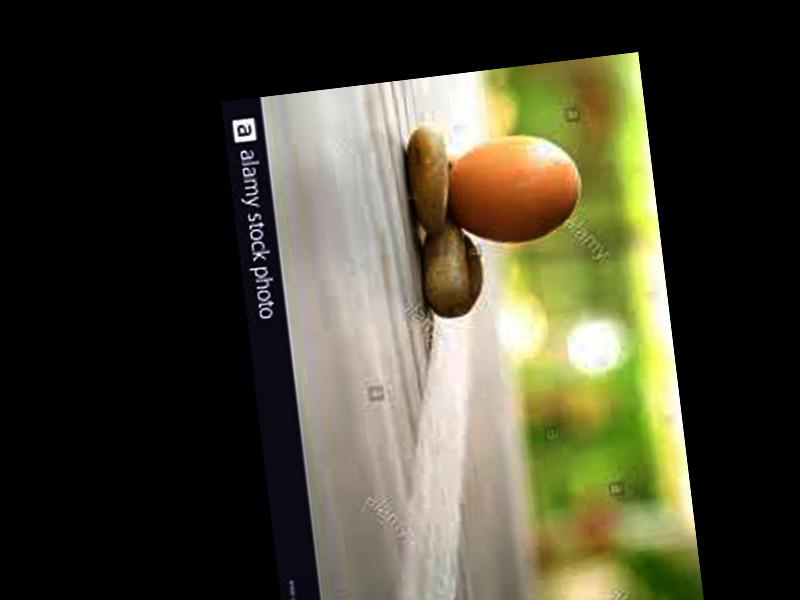Eggs: (441, 127, 584, 250)
